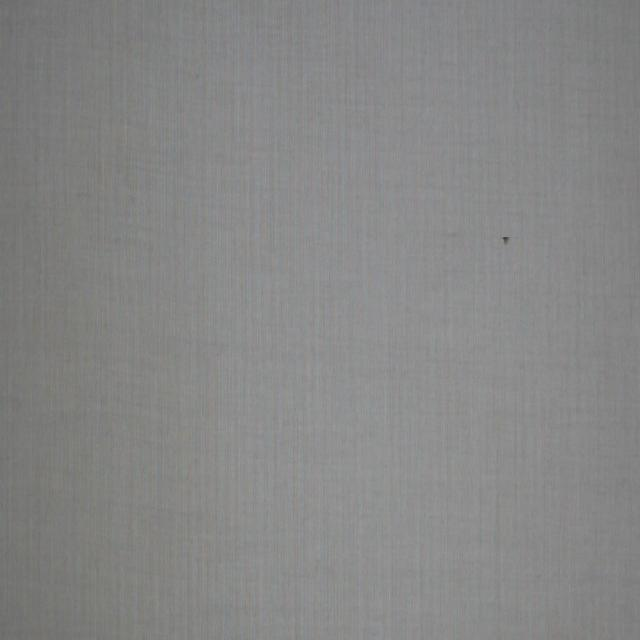dirty: (502, 234, 510, 247)
